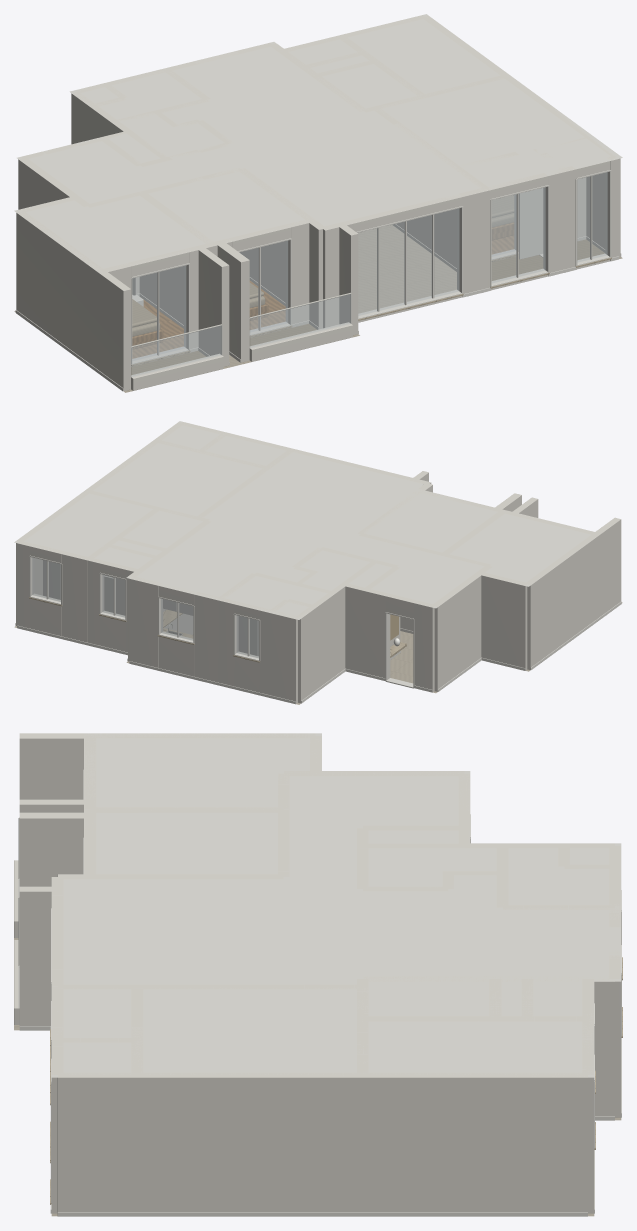
Rendered from acro112a-expanded.glb.
3 renders of one model, top to bottom at view 1: azimuth 30°, elevation 25°; view 2: azimuth 150°, elevation 25°; view 3: azimuth 270°, elevation 25°, orthographic. The views are drawn at different scales.
Parts seen in each view (by area): view 1: Indoor ceiling, West bedroom outer wall pier, Living south facade glazing, Living front floor, Master south facade glazing, West bedroom outer glazing glazing, Bedroom center east wall pier, Open balcony shaft west pier, Center balcony glass guard, Center bedroom outer glazing glazing, East facade pier, Master south facade pier.001 (+34 smaller); view 2: Indoor ceiling, West bedroom outer wall pier, Entry west wall pier, West notch north pier, Entry north wall pier.001, Service west wall pier, North service facade pier, North kitchen facade pier.001, North dressing facade pier, North kitchen facade pier, Entry north wall pier, East facade pier (+24 smaller); view 3: Indoor ceiling, East facade pier, West bedroom outer wall pier, Open balcony shaft east pier, Open balcony east return pier, North east step pier, East facade skirting.001, Master living divider pier.001, Bedroom center east wall pier, North kitchen facade pier.001, Bedroom dividing wall pier, North dressing facade pier.001 (+8 smaller).
Boxes of the visible parts, x1,y1,x2,y2 form: Indoor ceiling: (14,14,622,273); West bedroom outer wall pier: (16,211,130,391); Living south facade glazing: (358,208,459,315); Living front floor: (358,232,456,313); Master south facade glazing: (492,187,545,283); West bedroom outer glazing glazing: (132,266,185,360); Bedroom center east wall pier: (237,168,325,329); Open balcony shaft west pier: (198,246,229,366); Center balcony glass guard: (250,294,350,347); Center bedroom outer glazing glazing: (240,241,287,331); East facade pier: (423,15,620,256); Master south facade pier.001: (548,166,576,272); Indoor ceiling: (14,421,590,619); West bedroom outer wall pier: (524,517,621,670); Entry west wall pier: (431,565,492,691); West notch north pier: (481,572,527,670); Entry north wall pier.001: (343,583,388,678); Service west wall pier: (295,584,346,703); North service facade pier: (259,608,297,703); North kitchen facade pier.001: (129,577,161,667); North dressing facade pier: (62,551,90,642); North kitchen facade pier: (194,592,220,682); Entry north wall pier: (414,600,435,691); East facade pier: (16,422,183,625); Indoor ceiling: (51,733,621,1077); East facade pier: (57,1072,587,1212); West bedroom outer wall pier: (19,733,315,799); Open balcony shaft east pier: (19,812,89,886); Open balcony east return pier: (19,886,57,1025); North east step pier: (588,976,614,1116); East facade skirting.001: (57,1212,587,1216); Master living divider pier.001: (58,984,303,989); Bedroom center east wall pier: (57,874,283,879); North kitchen facade pier.001: (609,955,621,1117); Bedroom dividing wall pier: (90,807,283,812); North dressing facade pier.001: (582,1065,594,1213).
Bounding box in the file's own units: 13.88 × 2.62 × 10.35.
15 materials, 6 textured.
